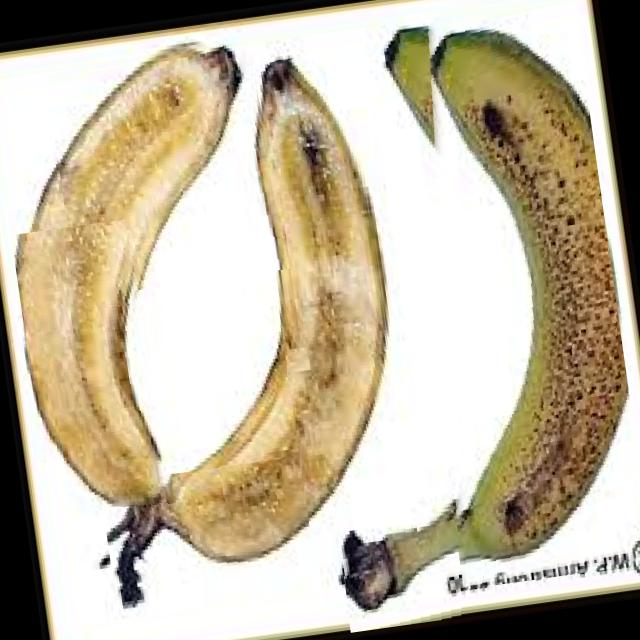Organic: (378, 0, 640, 589), (244, 51, 419, 566), (43, 32, 290, 298), (9, 216, 174, 520), (99, 455, 318, 602), (334, 507, 466, 632)
